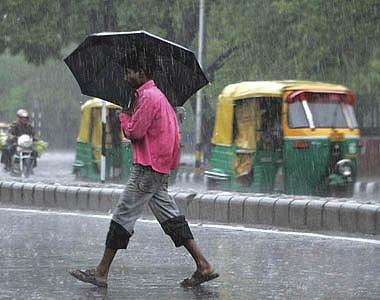person: (73, 50, 215, 288)
